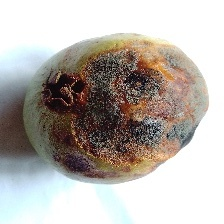guava: (7, 50, 189, 213)
